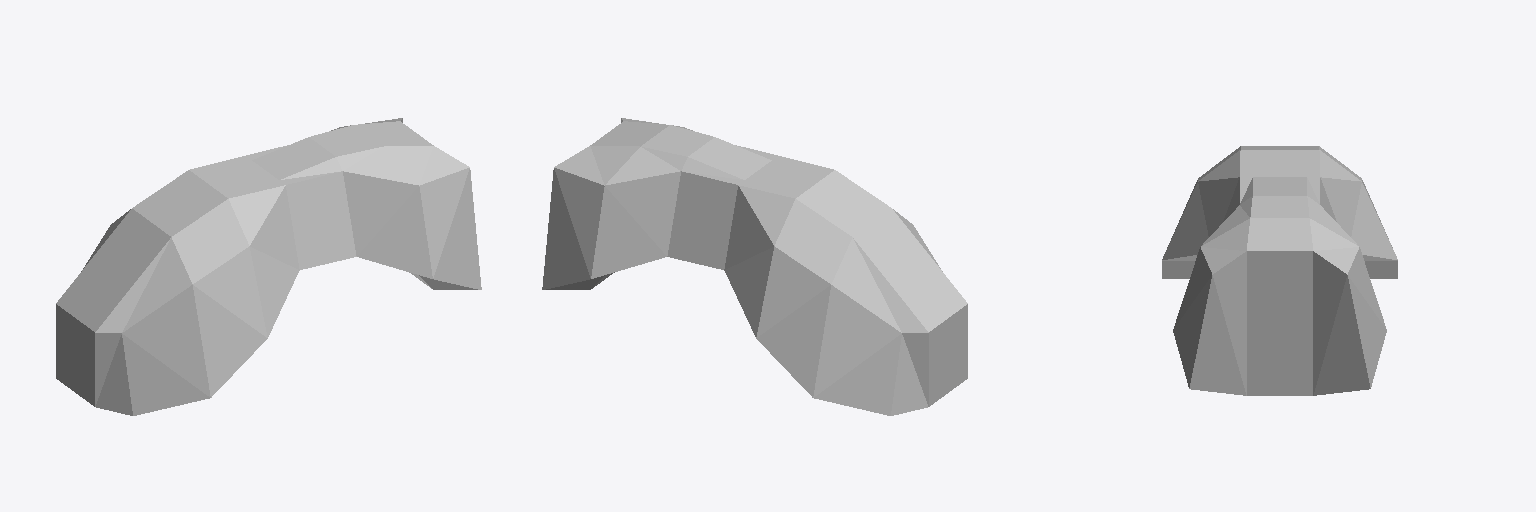
Rendered from enemyObj.obj.
3 renders of one model, left to right at view 1: azimuth 30°, elevation 25°; view 2: azimuth 150°, elevation 25°; view 3: azimuth 270°, elevation 25°, orthographic.
Visible parts, largest first — view 1: pCube1; view 2: pCube1; view 3: pCube1.
Part boxes in pixels (bbox=[...]): pCube1: bbox=[56, 118, 481, 415]; pCube1: bbox=[542, 118, 967, 415]; pCube1: bbox=[1162, 146, 1397, 395].
Size of the model in its own units: 5.28 by 2.6 by 3.